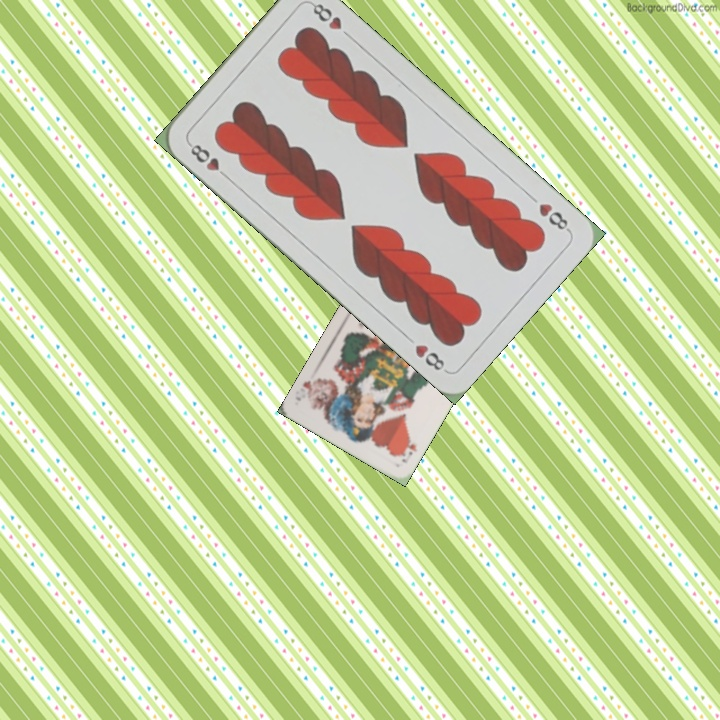H8: (184, 138, 233, 182), (534, 199, 573, 234)
HO: (395, 433, 420, 466)
